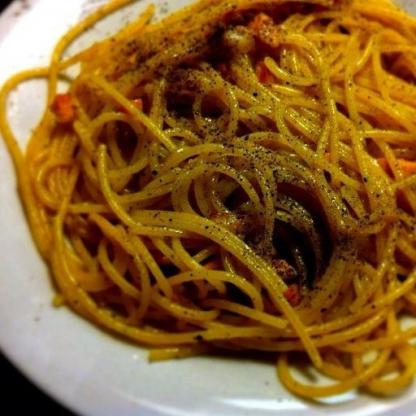pasta: (21, 2, 415, 415)
